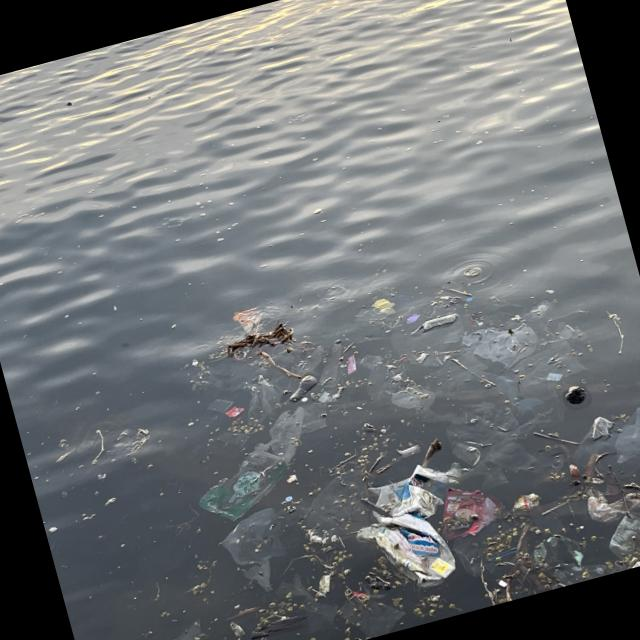plastic bag: (365, 475, 456, 586)
